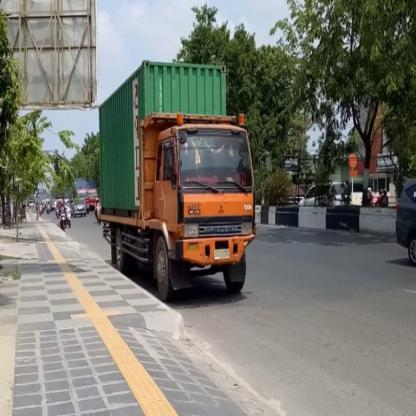truck: (150, 121, 258, 297)
